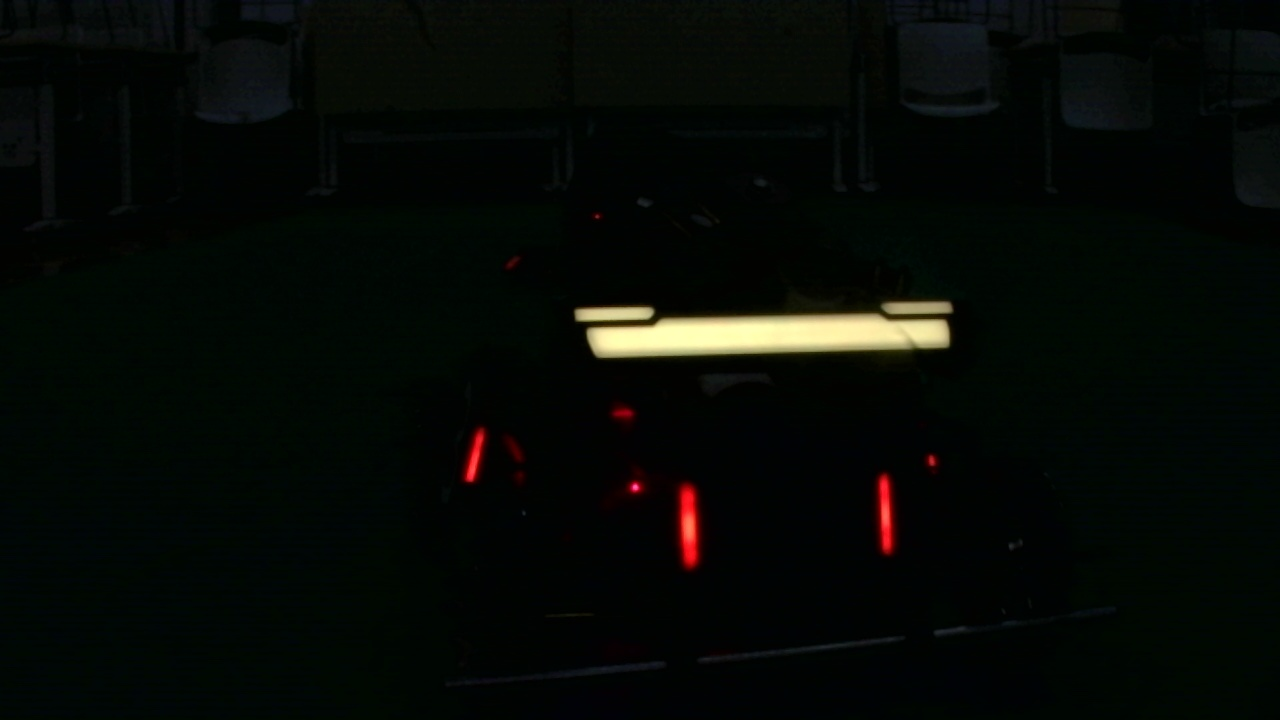lamp: (673, 482, 703, 564), (876, 475, 895, 550), (464, 421, 484, 489)
notpair1: (463, 422, 704, 566)
pair1: (673, 477, 889, 565)
